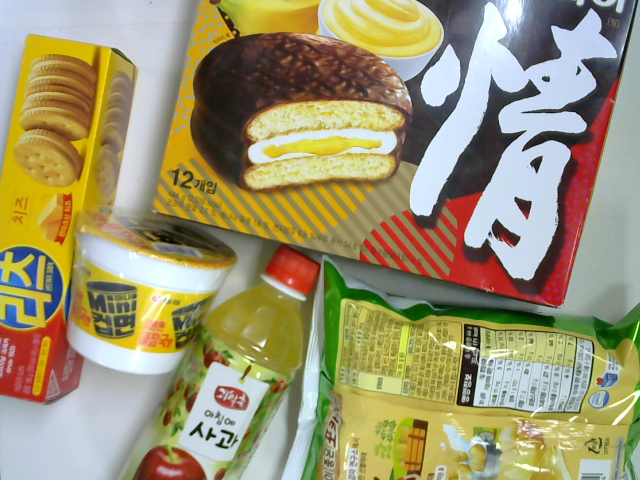Choco_Pie_Banana: (150, 1, 640, 308)
Hejangmini: (70, 204, 238, 377)
Morning_Apple_500ml: (111, 243, 324, 480)
Pocachip_Onion: (275, 254, 640, 480)
Ritz_Sand_Cracker: (1, 31, 141, 404)
